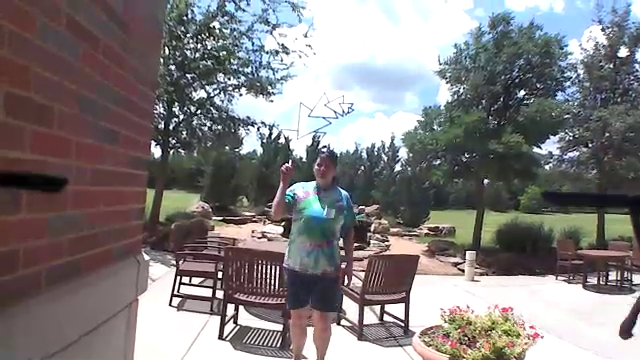up: (274, 152, 296, 185)
